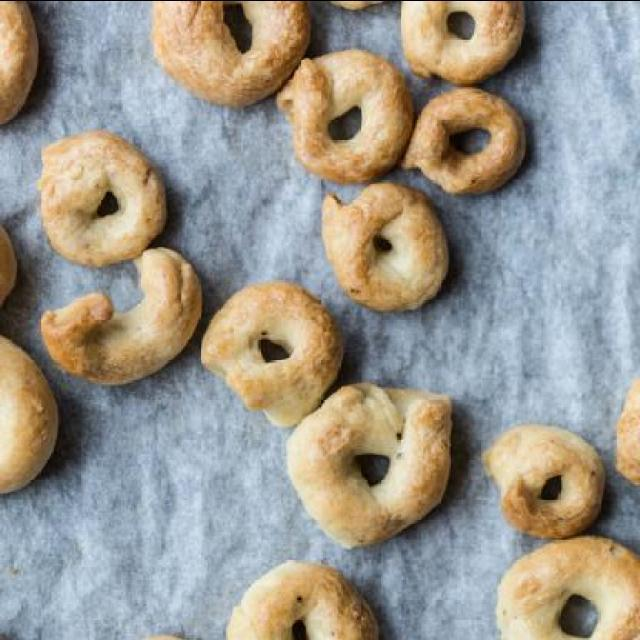Taralli: (16, 6, 630, 628)
